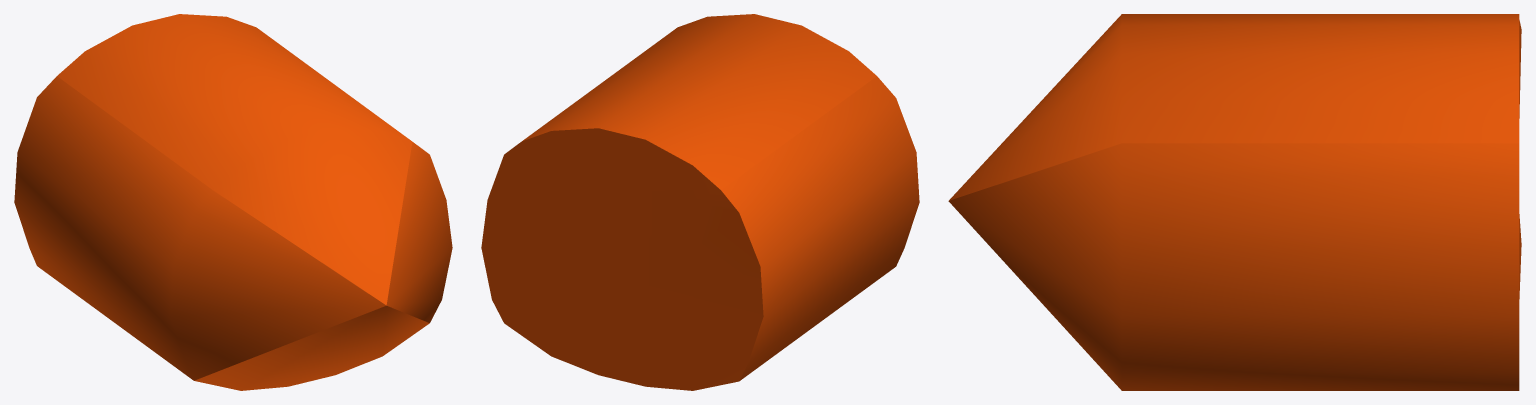
The model's file is OtherBullet.FBX.
3 views of the same model, side by side, from view 1: azimuth 30°, elevation 25°; view 2: azimuth 150°, elevation 25°; view 3: azimuth 270°, elevation 25° (orthographic). The views are drawn at different scales.
Visible parts, largest first — view 1: Box002; view 2: Box002; view 3: Box002.
Part boxes in pixels (bbox=[...]): Box002: bbox=[14, 14, 452, 390]; Box002: bbox=[481, 14, 919, 390]; Box002: bbox=[948, 14, 1521, 390].
Bounding box in the file's own units: 8.29 × 6.94 × 11.45.
